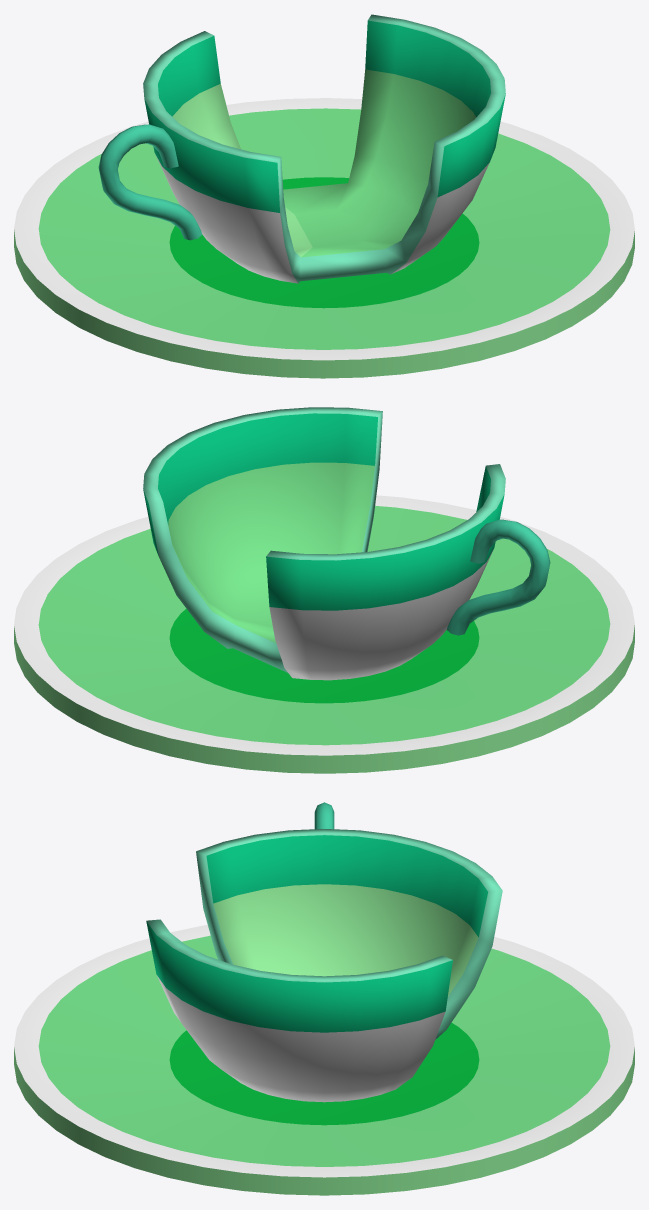
Rendered from GreenScoop.fbx.
3 renders of one model, top to bottom at view 1: azimuth 30°, elevation 25°; view 2: azimuth 150°, elevation 25°; view 3: azimuth 270°, elevation 25°, orthographic.
Visible parts, largest first — view 1: GreenScoopPlate, GreenScoopCup; view 2: GreenScoopPlate, GreenScoopCup; view 3: GreenScoopPlate, GreenScoopCup.
Part boxes in pixels (<box>): GreenScoopPlate: <box>14,98,634,378</box>; GreenScoopCup: <box>98,14,505,283</box>; GreenScoopPlate: <box>14,495,634,773</box>; GreenScoopCup: <box>143,407,550,680</box>; GreenScoopPlate: <box>14,925,634,1195</box>; GreenScoopCup: <box>146,802,502,1102</box>.
Size of the model in its own units: 6.22 by 6.22 by 1.84.
